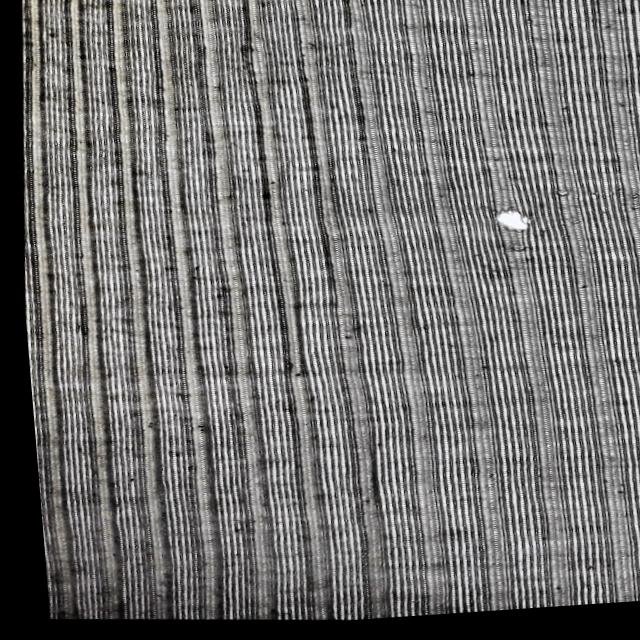Hole: (474, 204, 541, 249)
